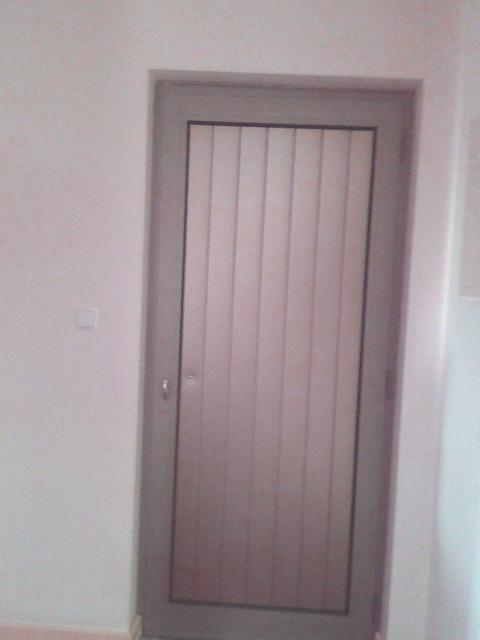closed_door: (136, 68, 416, 639)
